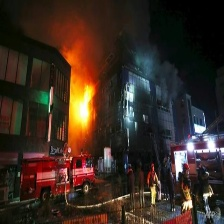fire: (73, 84, 91, 128)
smoke: (49, 16, 103, 106)
